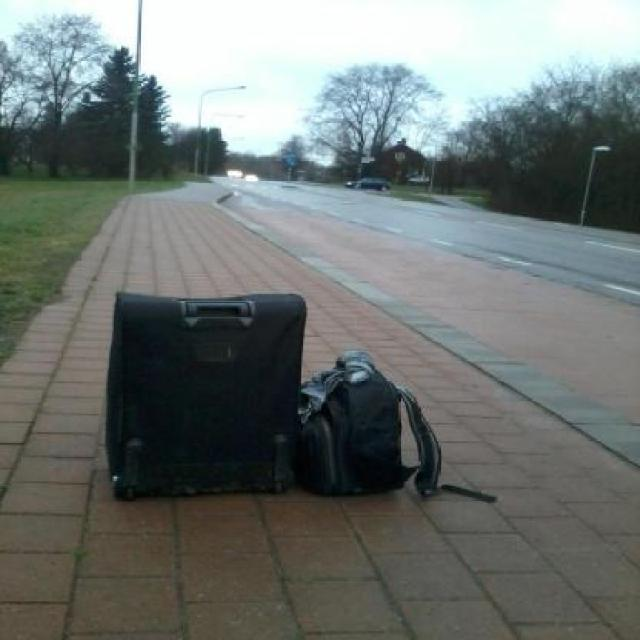backpack: (101, 286, 308, 503), (295, 346, 448, 503)
